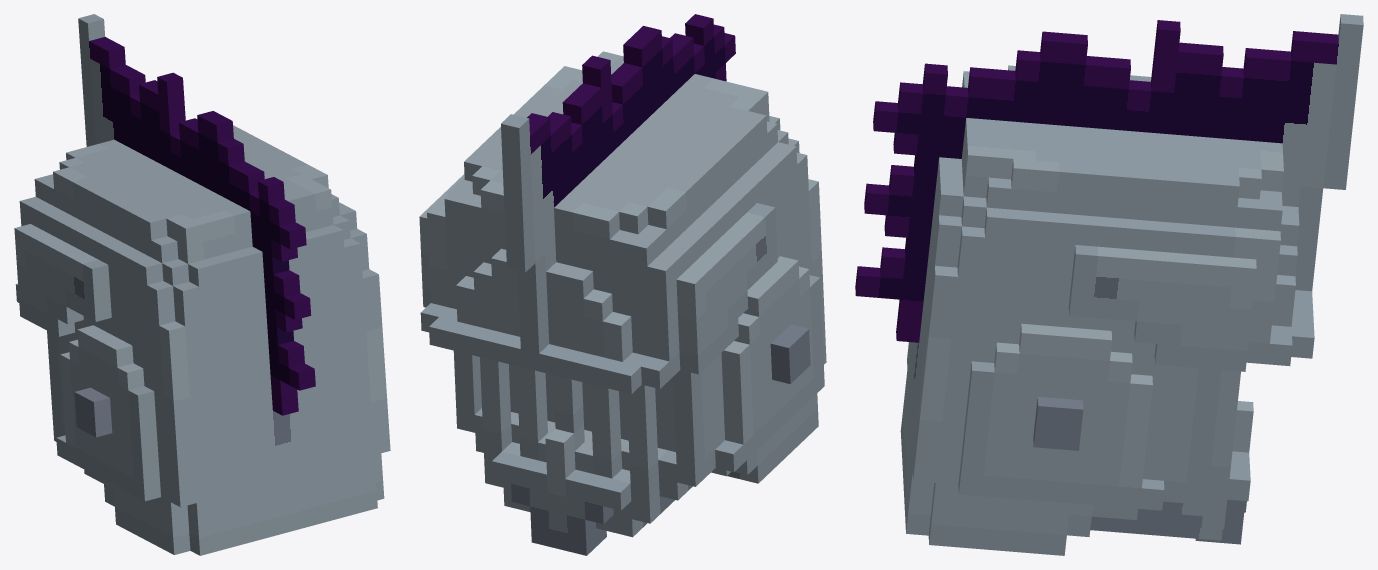
Rendered from ebc8e2d1-4f8e-49e2-9af8-4702c4093ca6.gltf.
3 renders of one model, left to right at view 1: azimuth 30°, elevation 25°; view 2: azimuth 150°, elevation 25°; view 3: azimuth 270°, elevation 25°, orthographic. The views are drawn at different scales.
Visible parts, largest first — view 1: Equip_Head-Local; view 2: Equip_Head-Local; view 3: Equip_Head-Local.
Part boxes in pixels (box(x1,y1,x2,y2)): Equip_Head-Local: box(14, 14, 390, 555); Equip_Head-Local: box(419, 14, 826, 555); Equip_Head-Local: box(855, 14, 1363, 555).
Size of the model in its own units: 17.06 by 24.71 by 22.38.
Materials: 1 (1 with a texture image).
